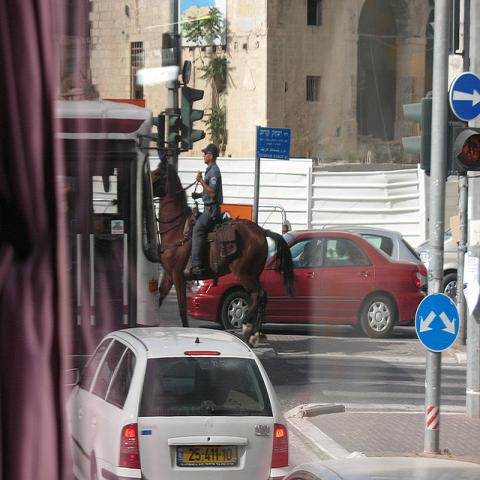bus: (56, 100, 160, 400)
car: (67, 321, 293, 473), (186, 228, 426, 341), (325, 229, 430, 288), (415, 227, 460, 306)
